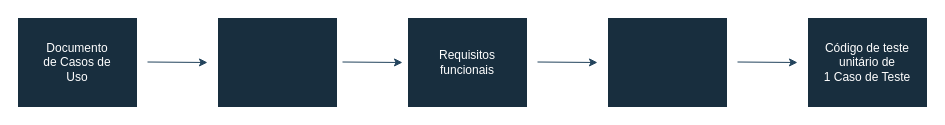
Some shapes in this 945 by 125 pixel diagram are drawn without their labels. Here are the shapes that lost their labels. From the top down, the centre of each, then its label:
the point at 277,62: Resumo do Caso de Uso escolhido
the point at 667,62: Casos de Teste
